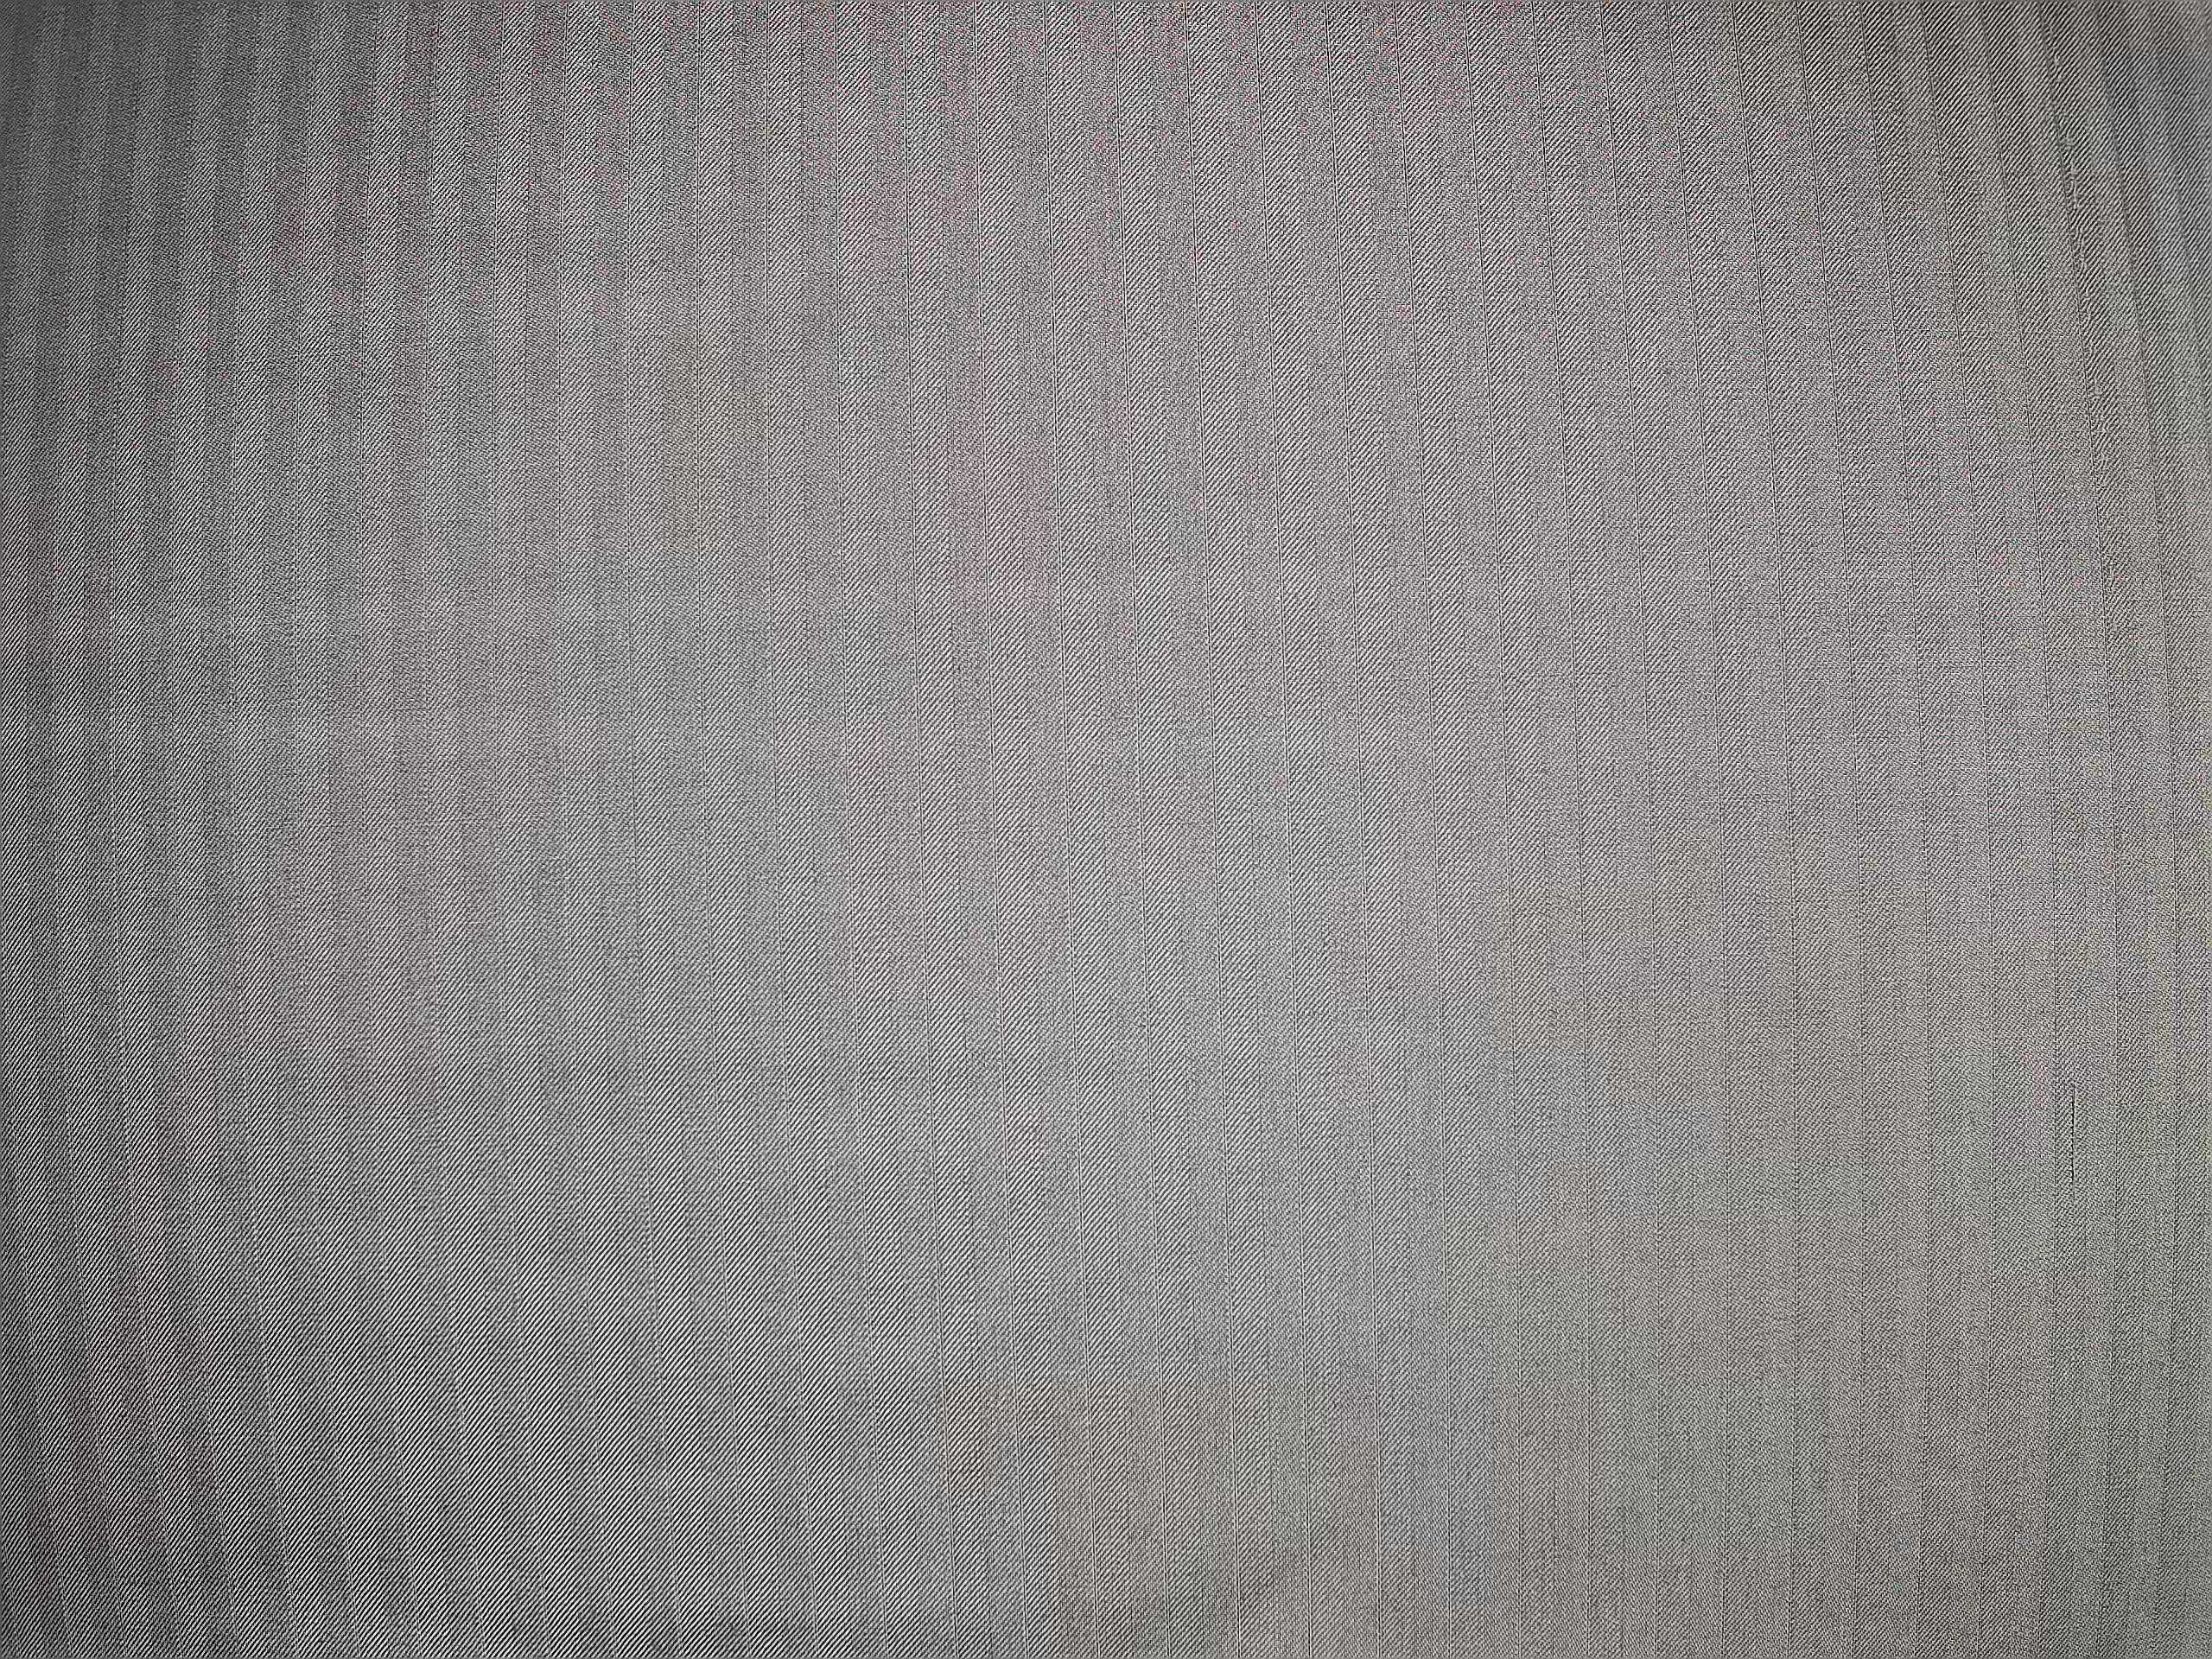jumps: (2037, 5, 2124, 491), (2059, 1071, 2089, 1213)
